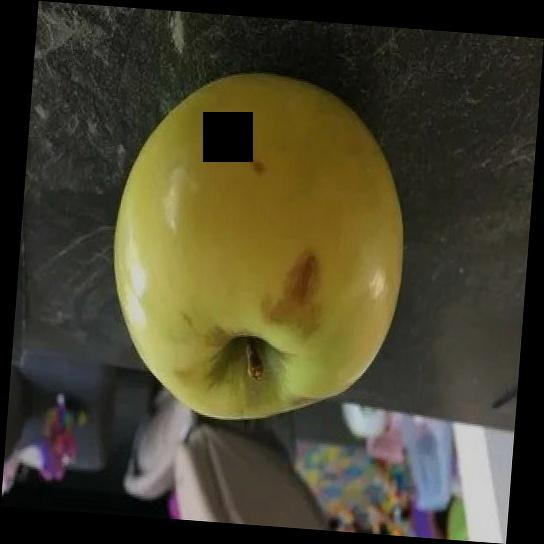green apple: (113, 72, 405, 424)
